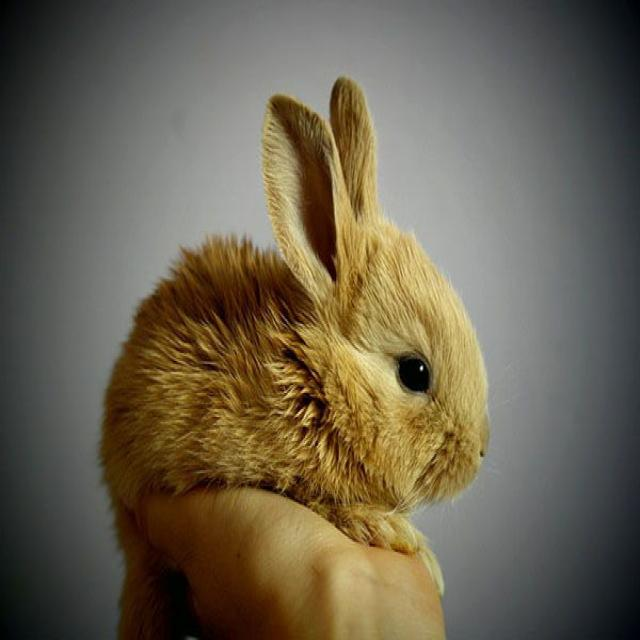Herbivorous: (101, 77, 492, 640)
